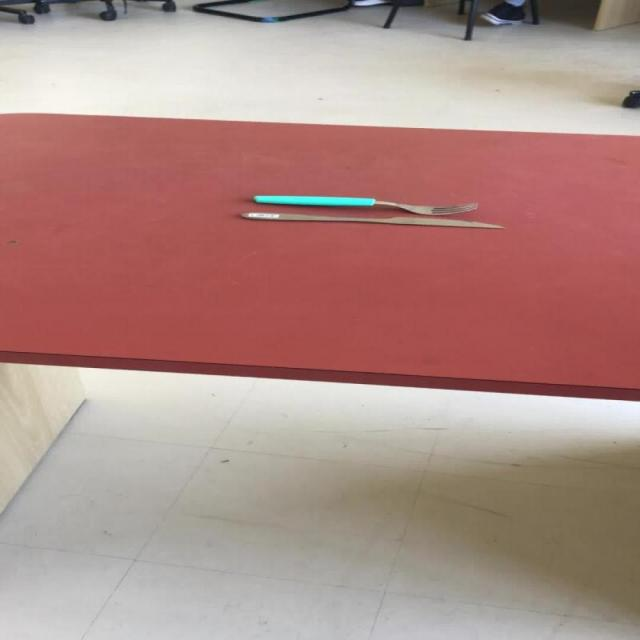Fork: (251, 194, 477, 215)
Knife: (238, 212, 503, 228)
